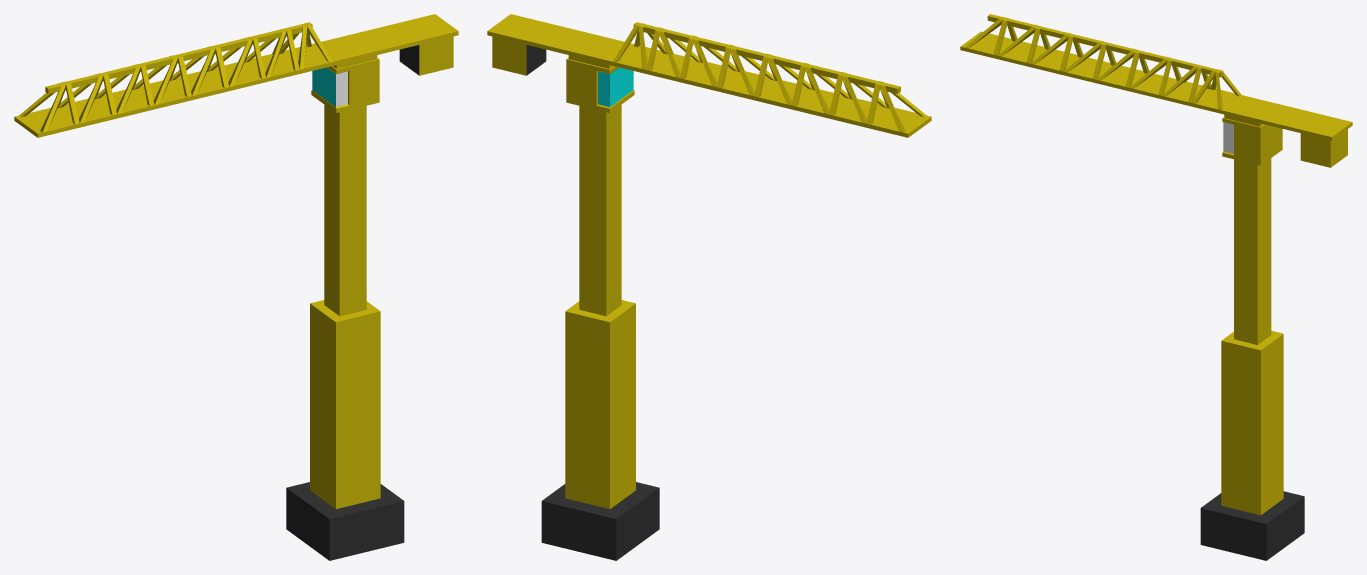
File: CraneMesh.fbx
3 renders of one model, left to right at view 1: azimuth 30°, elevation 25°; view 2: azimuth 150°, elevation 25°; view 3: azimuth 330°, elevation 25°, orthographic. The views are drawn at different scales.
Visible parts, largest first — view 1: pCube18; view 2: pCube18; view 3: pCube18.
Part boxes in pixels (bbox=[...]): pCube18: bbox=[14, 14, 458, 560]; pCube18: bbox=[487, 14, 931, 560]; pCube18: bbox=[960, 14, 1352, 560].
Bounding box in the file's own units: 4223 × 4995 × 750.
Materials: 1 (1 with a texture image).
